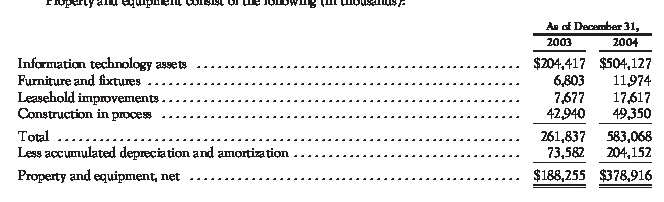table: (0, 0, 664, 202)
